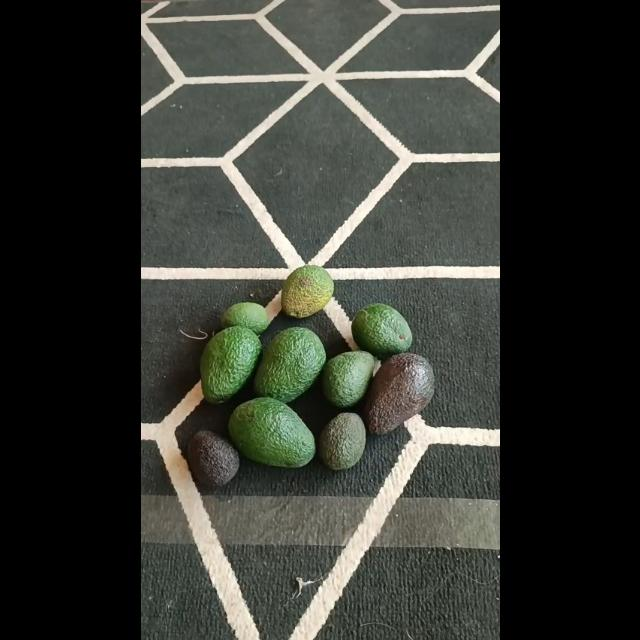Primera: (228, 397, 314, 468), (363, 351, 435, 434), (254, 327, 326, 403), (199, 324, 261, 404)
Segunda: (350, 302, 412, 358), (320, 350, 374, 408), (280, 264, 332, 318)
Tercera: (186, 429, 238, 488), (316, 412, 366, 471), (220, 301, 268, 335)
